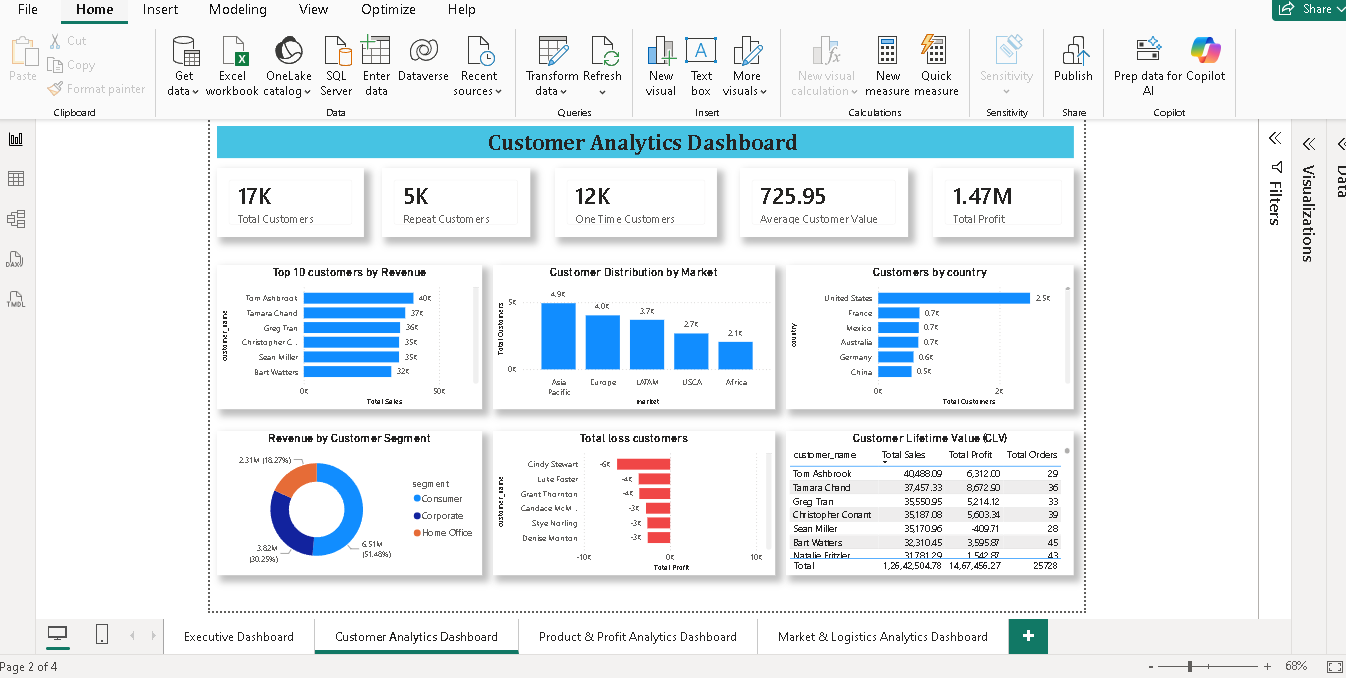

The page's visual inventory and layout, read from the dashboard file:
{"tool":"powerbi","page":{"name":"Customer Analytics Dashboard ","canvas":[1280,720],"ordinal":1},"visuals":[{"type":"textbox","box":[10.2,10.2,1254.1,46.8],"z":0},{"type":"cardVisual","fields":{"Data":["Measures (2).Total Customers"]},"box":[10.2,71.7,215.1,101],"z":1000},{"type":"cardVisual","fields":{"Data":["Measures (2).Repeat Customers"]},"box":[251.7,71.7,216.6,101],"z":2000},{"type":"cardVisual","fields":{"Data":["Measures (2).One Time Customers"]},"box":[504.9,71.7,237.1,101],"z":3000},{"type":"cardVisual","fields":{"Data":["Measures (2).Average Customer Value"]},"box":[775.6,71.7,245.9,101],"z":4000},{"type":"cardVisual","fields":{"Data":["Measures (2).Total Profit"]},"box":[1058,71.7,206.3,101],"z":5000},{"type":"clusteredBarChart","title":"Top 10 customers by Revenue","fields":{"Category":["Orders.customer_name"],"Y":["Measures (2).Total Sales"]},"box":[10.2,213.7,387.8,210.7],"z":6000},{"type":"donutChart","title":"Revenue by Customer Segment","fields":{"Category":["Orders.segment"],"Y":["Measures (2).Total Sales"]},"box":[10.2,456.6,387.8,210.7],"z":7000},{"type":"clusteredColumnChart","title":"Customer Distribution by Market","fields":{"Category":["Orders.market"],"Y":["Measures (2).Total Customers"]},"box":[414.1,213.7,412.7,210.7],"z":8000},{"type":"barChart","title":"Total loss customers","fields":{"Category":["Orders.customer_name"],"Y":["Measures (2).Total Profit"]},"box":[414.1,456.6,412.7,210.7],"z":9000},{"type":"barChart","title":"Customers by country","fields":{"Category":["Orders.country"],"Y":["Measures (2).Total Customers"]},"box":[842.9,213.7,421.5,210.7],"z":10000},{"type":"tableEx","title":"Customer Lifetime Value (CLV)","fields":{"Values":["Orders.customer_name","Measures (2).Total Sales","Measures (2).Total Profit","Measures (2).Total Orders"]},"box":[842.9,456.6,421.5,210.7],"z":11000}]}

Visuals, with their boxes on the page's 1280x720 design canvas (x1, y1, x2, y2). These are canvas units, not pixel positions in the 1346x678 screenshot, which may show the page scaled, cropped or inside an application window:
textbox: (10, 10, 1264, 57)
cardVisual - Measures (2).Total Customers: (10, 72, 225, 173)
cardVisual - Measures (2).Repeat Customers: (252, 72, 468, 173)
cardVisual - Measures (2).One Time Customers: (505, 72, 742, 173)
cardVisual - Measures (2).Average Customer Value: (776, 72, 1022, 173)
cardVisual - Measures (2).Total Profit: (1058, 72, 1264, 173)
"Top 10 customers by Revenue" clusteredBarChart: (10, 214, 398, 424)
"Revenue by Customer Segment" donutChart: (10, 457, 398, 667)
"Customer Distribution by Market" clusteredColumnChart: (414, 214, 827, 424)
"Total loss customers" barChart: (414, 457, 827, 667)
"Customers by country" barChart: (843, 214, 1264, 424)
"Customer Lifetime Value (CLV)" tableEx: (843, 457, 1264, 667)
